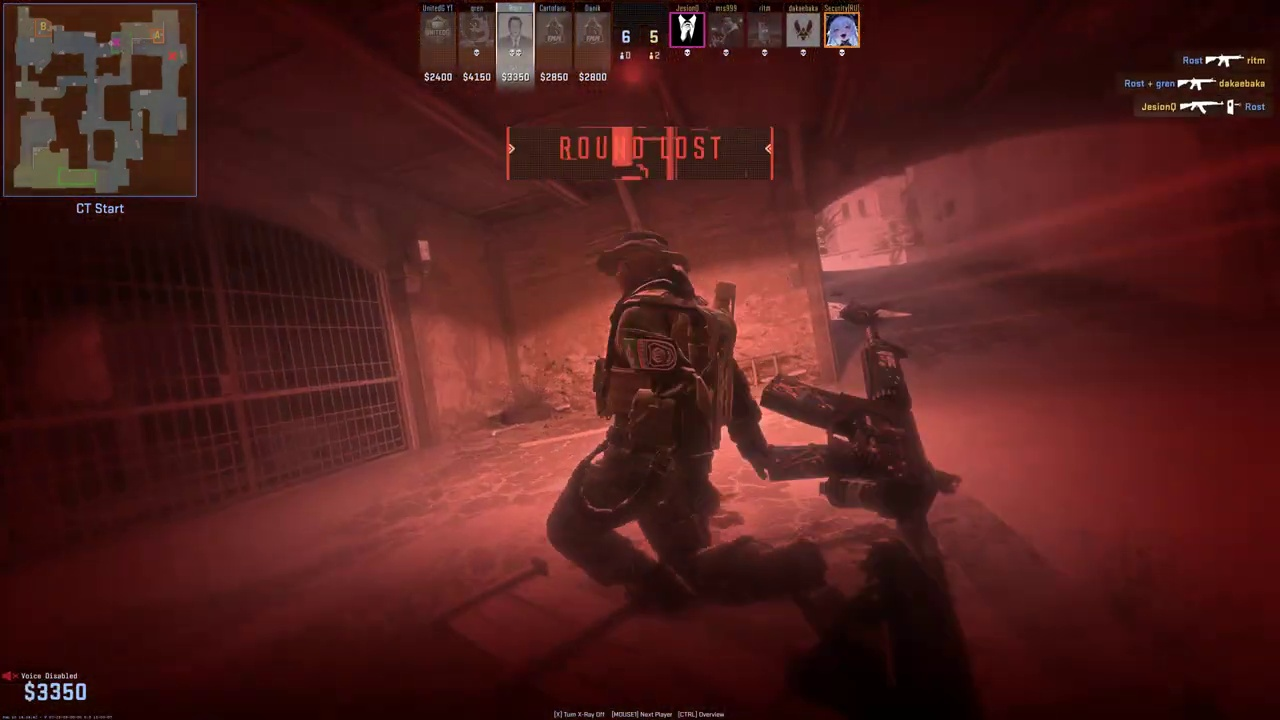CT: (601, 239, 750, 559)
